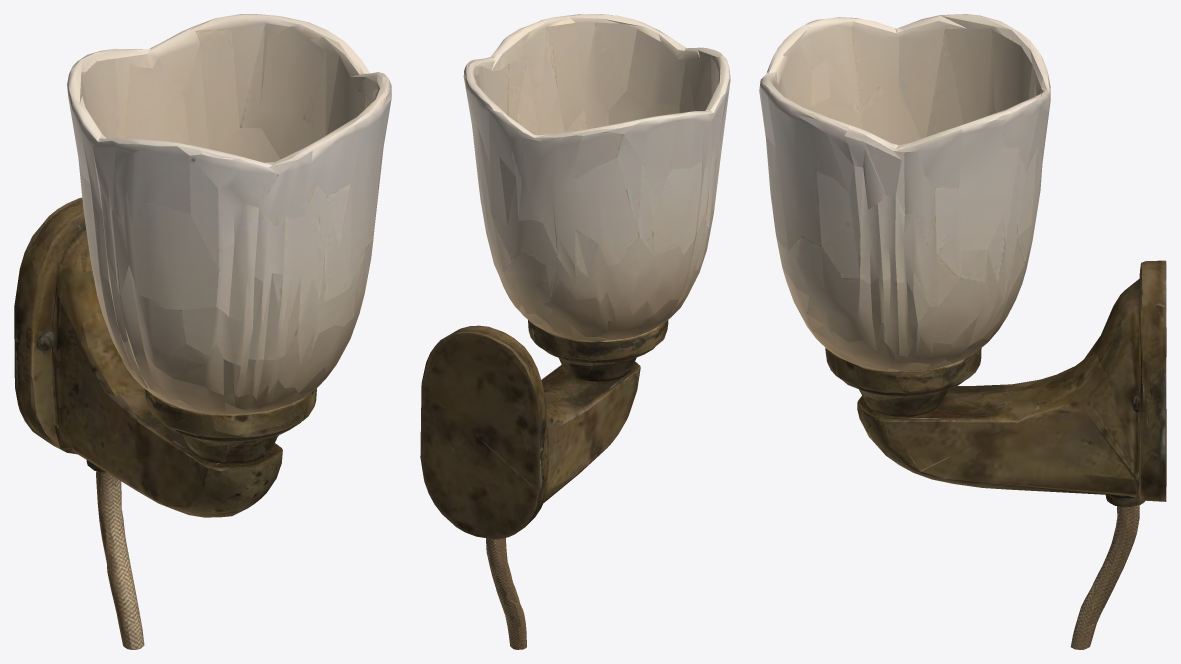
File: sconce.glb
3 views of the same model, side by side, from view 1: azimuth 30°, elevation 25°; view 2: azimuth 150°, elevation 25°; view 3: azimuth 270°, elevation 25° (orthographic). The views are drawn at different scales.
Parts seen in each view (by area): view 1: Mesh_0; view 2: Mesh_0; view 3: Mesh_0.
Part boxes in pixels (<box>): Mesh_0: <box>14,14,391,649</box>; Mesh_0: <box>420,14,730,649</box>; Mesh_0: <box>759,14,1166,649</box>.
Bounding box in the file's own units: 0.8725 × 1.9 × 1.21.
1 material, 1 textured.
